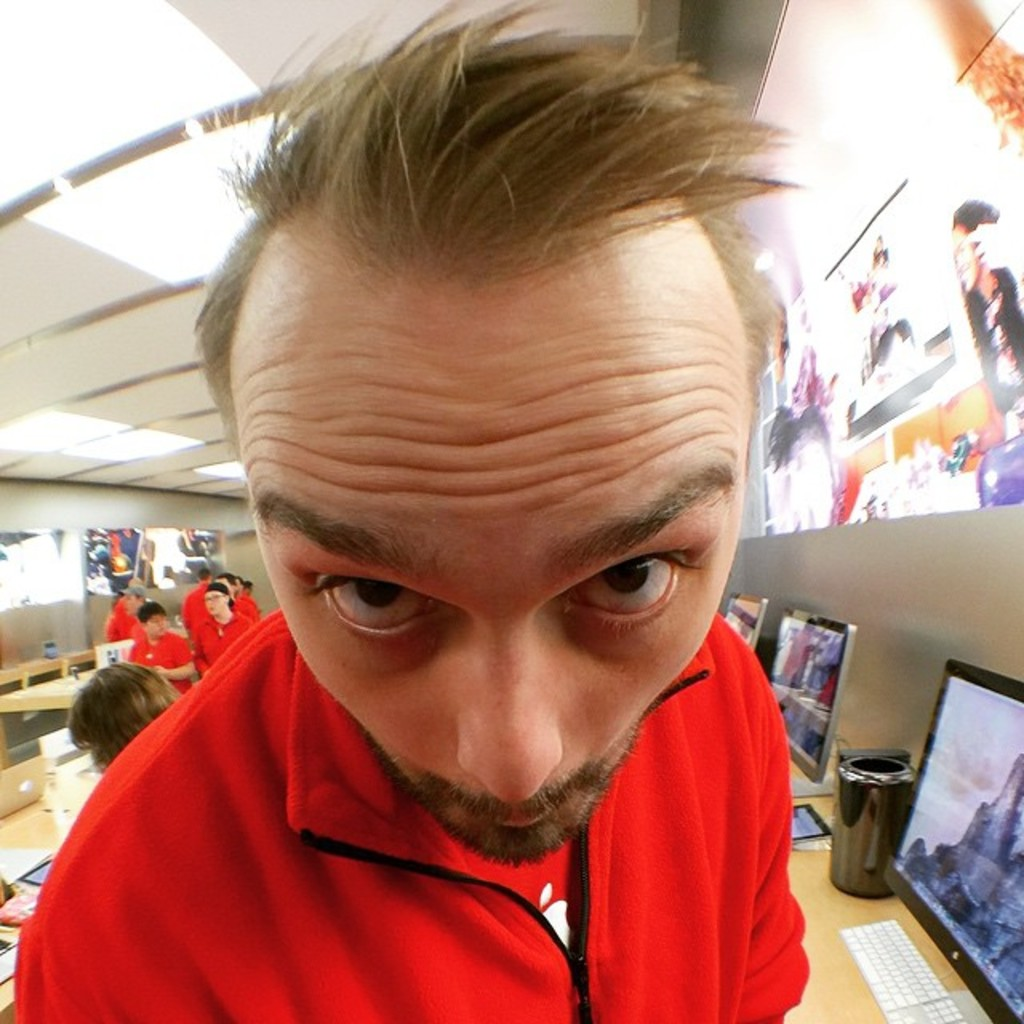Person: (128, 571, 273, 696), (103, 580, 146, 640)
